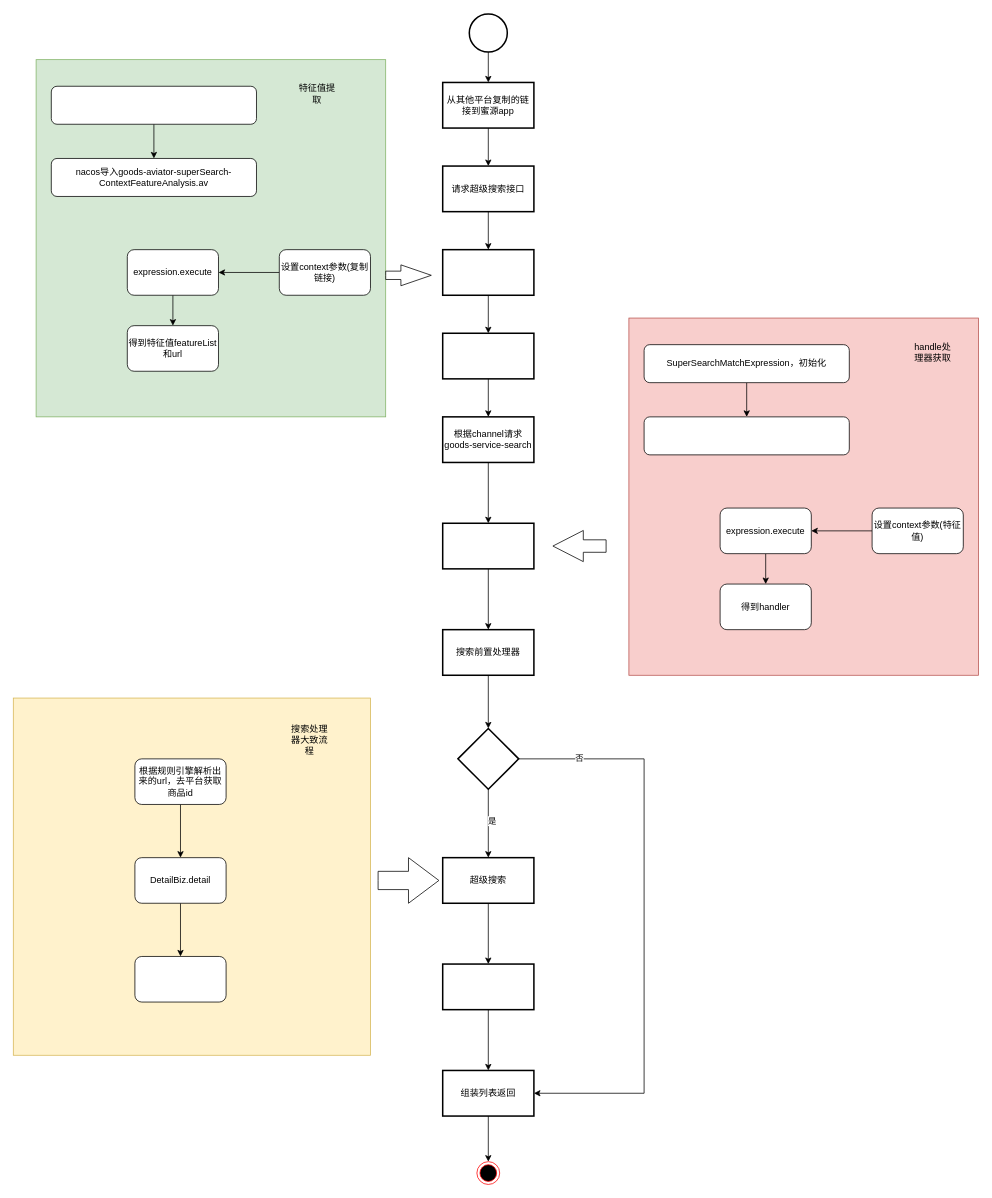
The diagram is 992 pixels wide and 1198 high, and some of its shapes have lost their labels. The shapes that lost their labels are listed below. From the top down, each one's centre as x and y in pixels, then its label:
At point 153,105: "SuperSearchContextFeatureAnalysisExpression，初始化".
At point 488,272: "规则引擎提取特征(后续用来获取不同处理器)".
At point 488,355: "根据特征获取channel".
At point 746,435: "nacos导入goods-aviator-superSearch-featureMatch.av".
At point 488,545: "根据特征获取搜索处理器".
At point 488,758: "本渠道是否支持搜索".
At point 180,979: "获得商品信息".
At point 488,986: "搜索后置处理".
